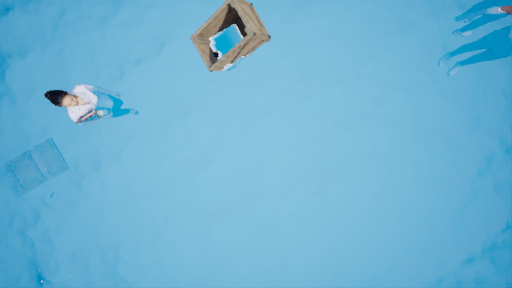person: (44, 78, 143, 132)
